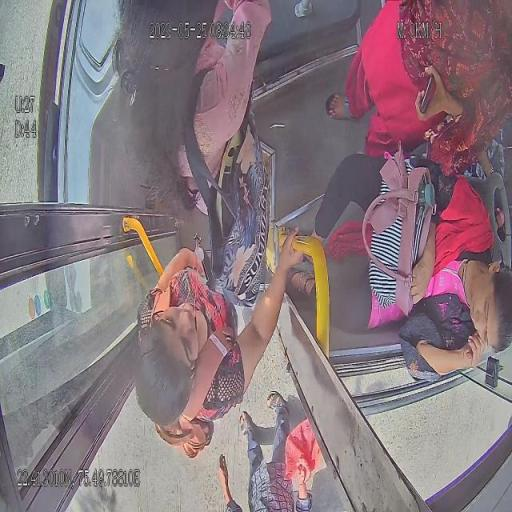persona: (289, 146, 511, 383), (109, 0, 274, 306), (133, 226, 305, 460), (290, 1, 512, 181), (217, 390, 323, 511)
